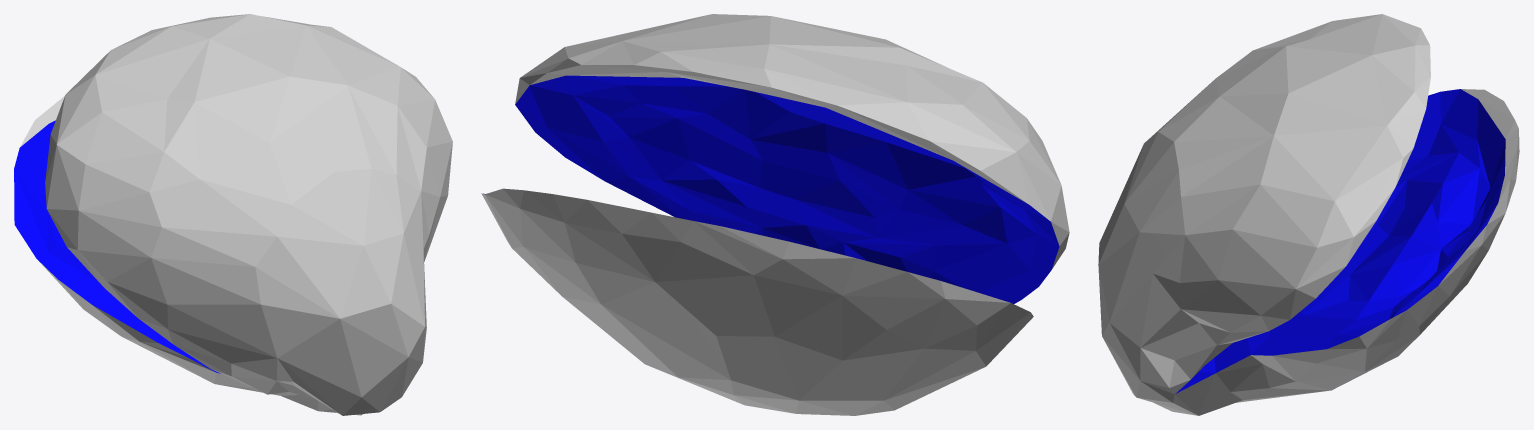
The model's file is SM_Clam2.fbx.
3 renders of one model, left to right at view 1: azimuth 30°, elevation 25°; view 2: azimuth 150°, elevation 25°; view 3: azimuth 270°, elevation 25°, orthographic. The views are drawn at different scales.
Visible parts, largest first — view 1: SM_Clam_2; view 2: SM_Clam_2; view 3: SM_Clam_2.
Part boxes in pixels (x1,y1,x2,y2): SM_Clam_2: [14, 14, 452, 415]; SM_Clam_2: [481, 14, 1069, 415]; SM_Clam_2: [1098, 14, 1519, 415].
Size of the model in its own units: 0.6407 by 0.5732 by 0.4962.
